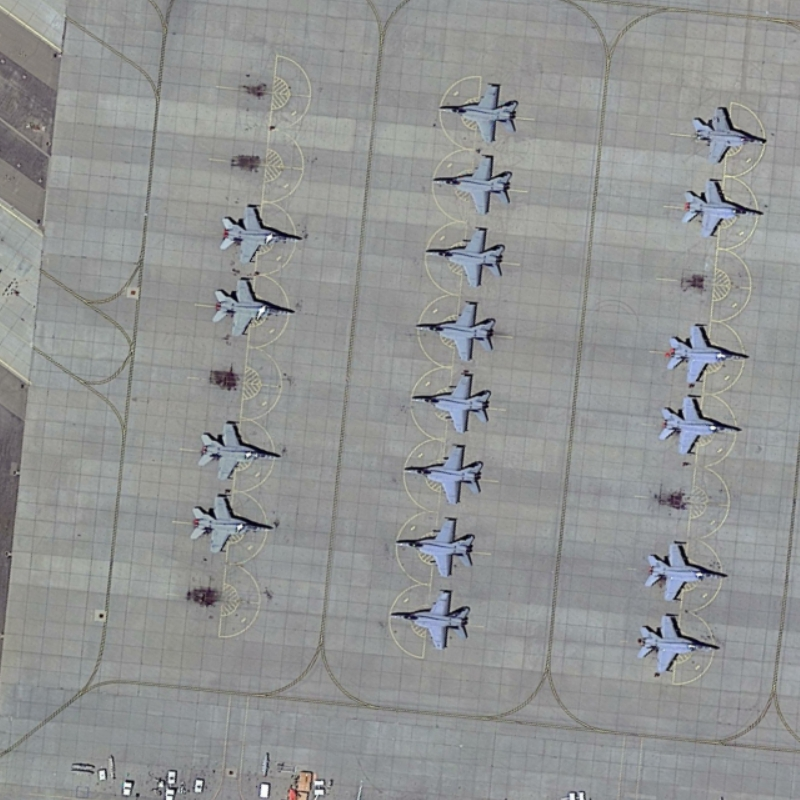A16: (184, 489, 277, 559), (400, 441, 488, 510), (632, 611, 722, 678), (390, 514, 479, 581), (196, 417, 285, 484), (656, 391, 745, 458), (207, 274, 297, 340), (412, 297, 500, 364), (388, 587, 473, 656), (214, 200, 304, 265), (676, 176, 766, 241), (643, 539, 731, 605), (437, 78, 520, 146), (428, 153, 516, 217), (409, 370, 494, 435), (663, 322, 750, 385), (423, 224, 507, 288), (689, 103, 770, 167)
